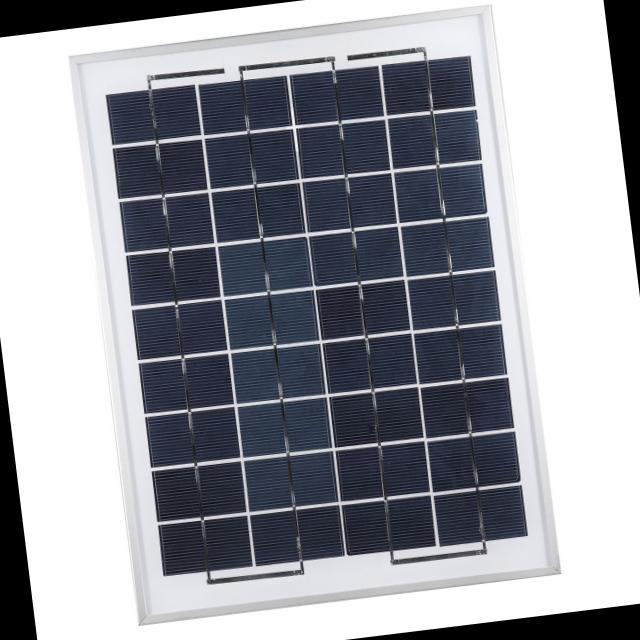no faulty: (110, 51, 526, 573)
